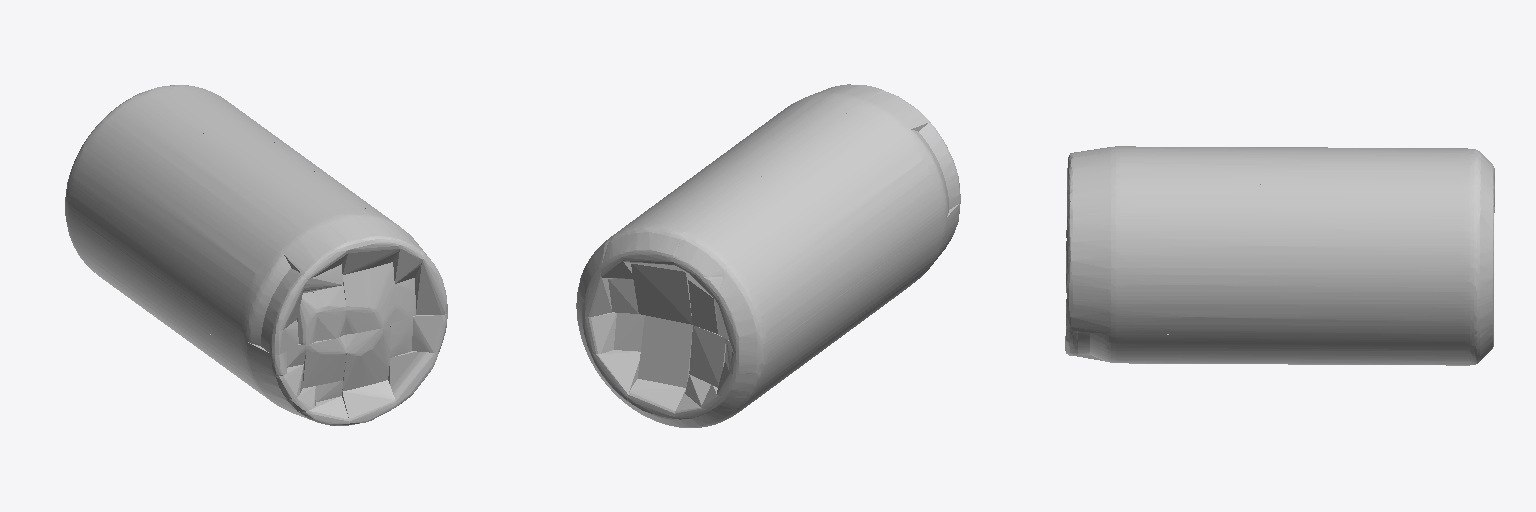
Rendered from coacd_collision.obj.
The picture shows the model from 3 angles: view 1: azimuth 30°, elevation 25°; view 2: azimuth 150°, elevation 25°; view 3: azimuth 270°, elevation 25°; orthographic projection.
Parts seen in each view (by area): view 1: geometry_3, geometry_11, geometry_7, geometry_25, geometry_16, geometry_4, geometry_0, geometry_15, geometry_1, geometry_10, geometry_2, geometry_5 (+11 smaller); view 2: geometry_3, geometry_11, geometry_7, geometry_25, geometry_16, geometry_0, geometry_4, geometry_15, geometry_2, geometry_10, geometry_5, geometry_18 (+7 smaller); view 3: geometry_5, geometry_7, geometry_20, geometry_18, geometry_15, geometry_11.
Part boxes in pixels (x1,y1,x2,y2): geometry_3: (65, 123, 290, 345); geometry_11: (100, 92, 348, 279); geometry_7: (145, 85, 399, 274); geometry_25: (65, 208, 286, 375); geometry_16: (68, 230, 303, 398); geometry_4: (343, 262, 395, 334); geometry_0: (342, 325, 390, 391); geometry_15: (198, 87, 421, 283); geometry_1: (303, 335, 346, 387); geometry_10: (78, 254, 315, 411); geometry_2: (342, 380, 395, 425); geometry_5: (226, 100, 447, 314); geometry_3: (718, 130, 948, 353); geometry_11: (674, 91, 930, 276); geometry_7: (623, 84, 883, 271); geometry_25: (730, 202, 960, 374); geometry_16: (717, 223, 957, 396); geometry_0: (638, 315, 692, 387); geometry_4: (631, 264, 692, 324); geometry_15: (601, 87, 831, 278); geometry_2: (628, 379, 685, 427); geometry_10: (701, 248, 945, 409); geometry_5: (576, 108, 785, 316); geometry_18: (584, 346, 640, 409); geometry_5: (1066, 209, 1493, 302); geometry_7: (1067, 151, 1494, 205); geometry_20: (1066, 295, 1493, 334); geometry_18: (1090, 326, 1493, 365); geometry_15: (1067, 184, 1494, 231); geometry_11: (1068, 146, 1494, 171).
Bounding box in the file's own units: 59.37 × 59.56 × 117.